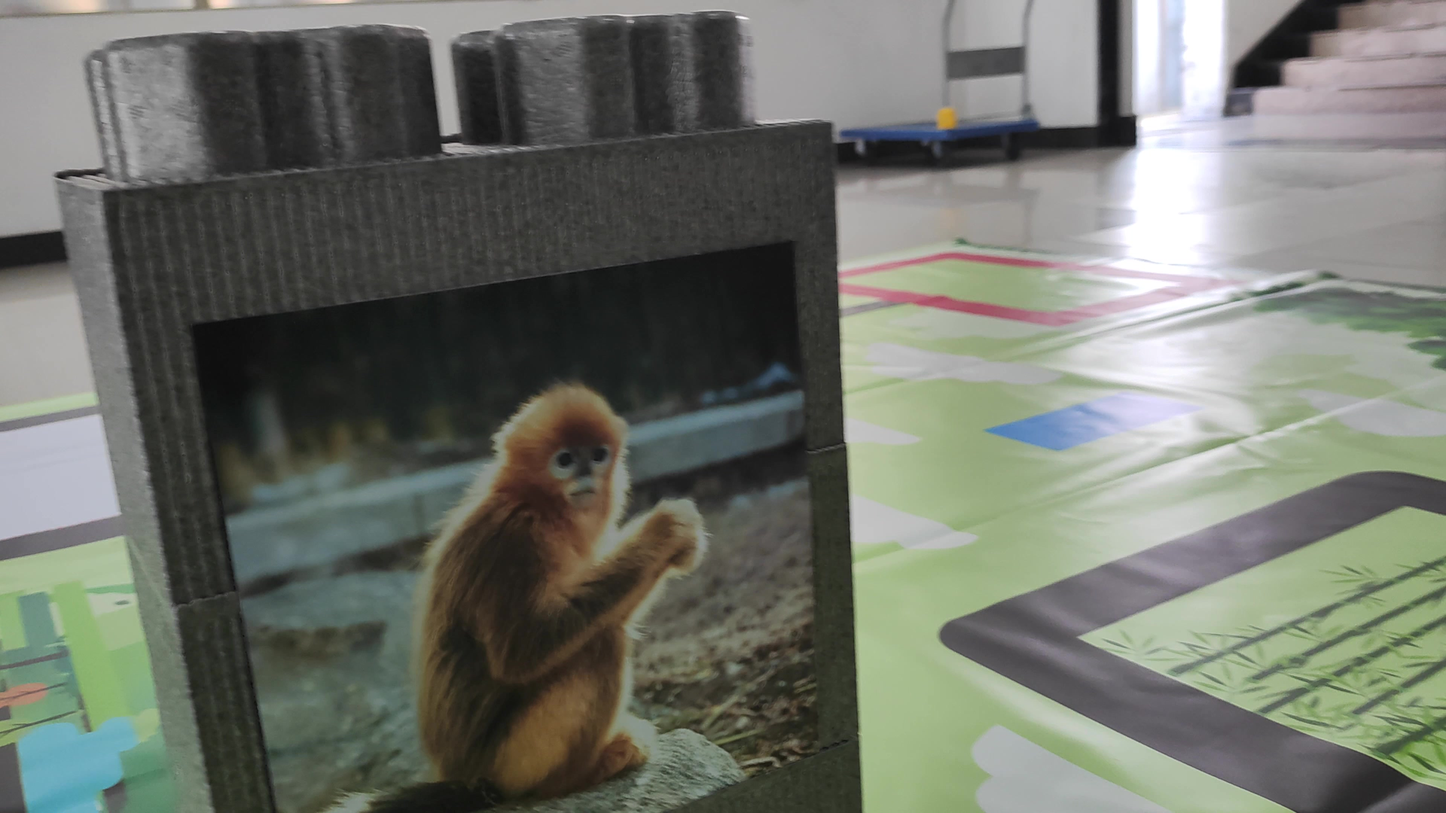monkey: (381, 348, 744, 787)
